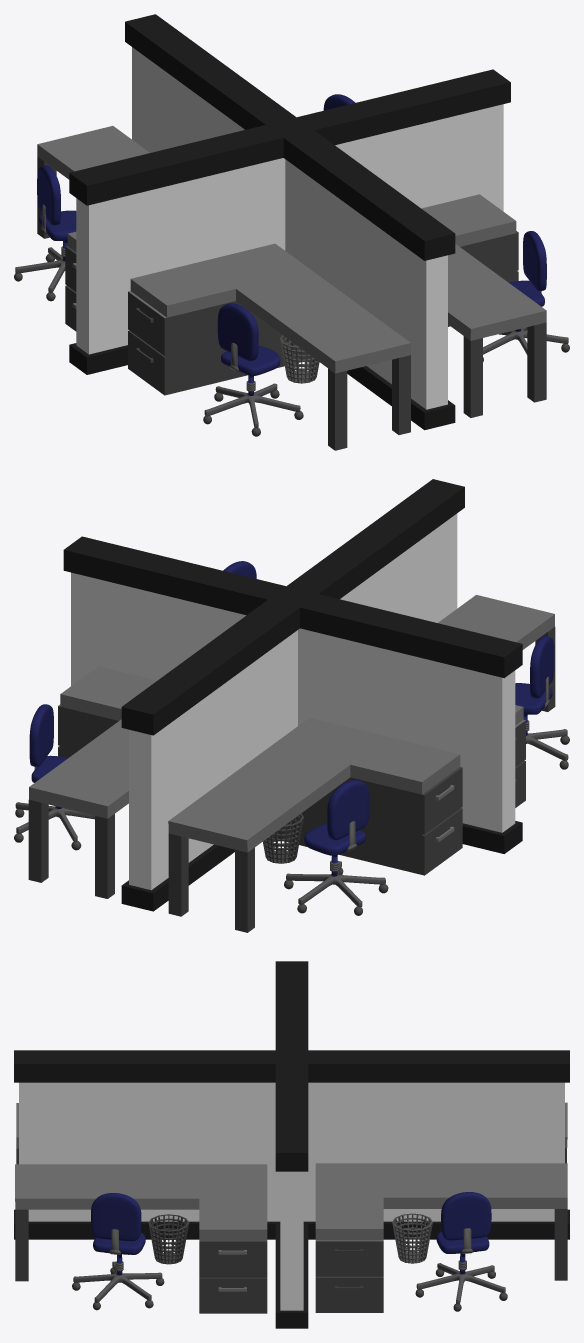
The model's file is ofis_masalarsandalye.fbx.
3 views of the same model, one above another, from view 1: azimuth 30°, elevation 25°; view 2: azimuth 150°, elevation 25°; view 3: azimuth 270°, elevation 25° (orthographic). The views are drawn at different scales.
Parts seen in each view (by area): view 1: Cube.005; view 2: Cube.005; view 3: Cube.005.
Part boxes in pixels (left/top/right/bottom): Cube.005: left=14, top=14, right=569, bottom=450; Cube.005: left=14, top=479, right=569, bottom=932; Cube.005: left=14, top=961, right=569, bottom=1328.
Bounding box in the file's own units: 977 × 417 × 1196.
